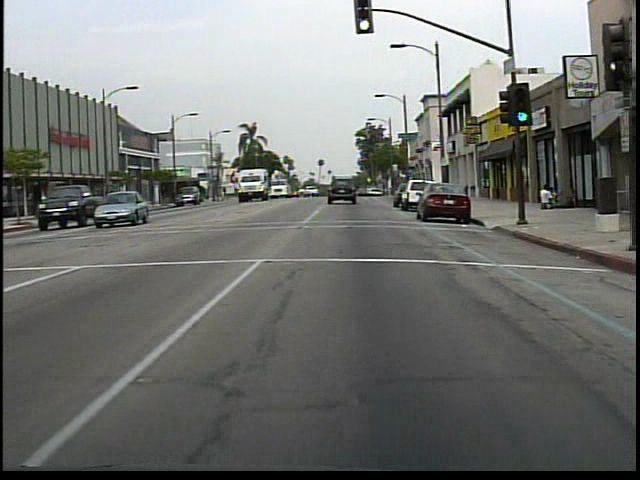person: (535, 183, 553, 212)
